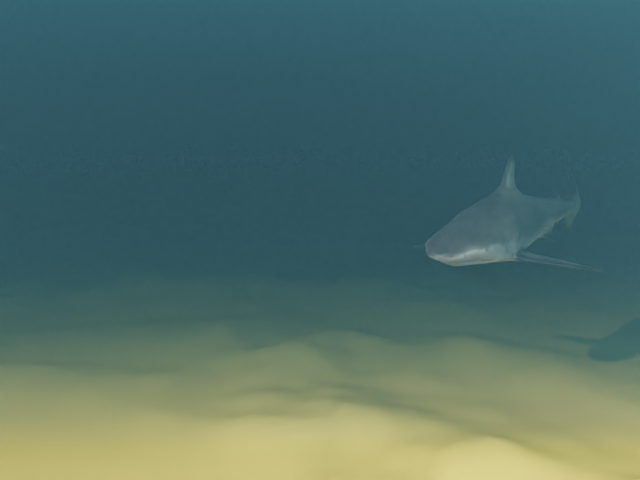Carribean Shark.001: (413, 149, 602, 271)
